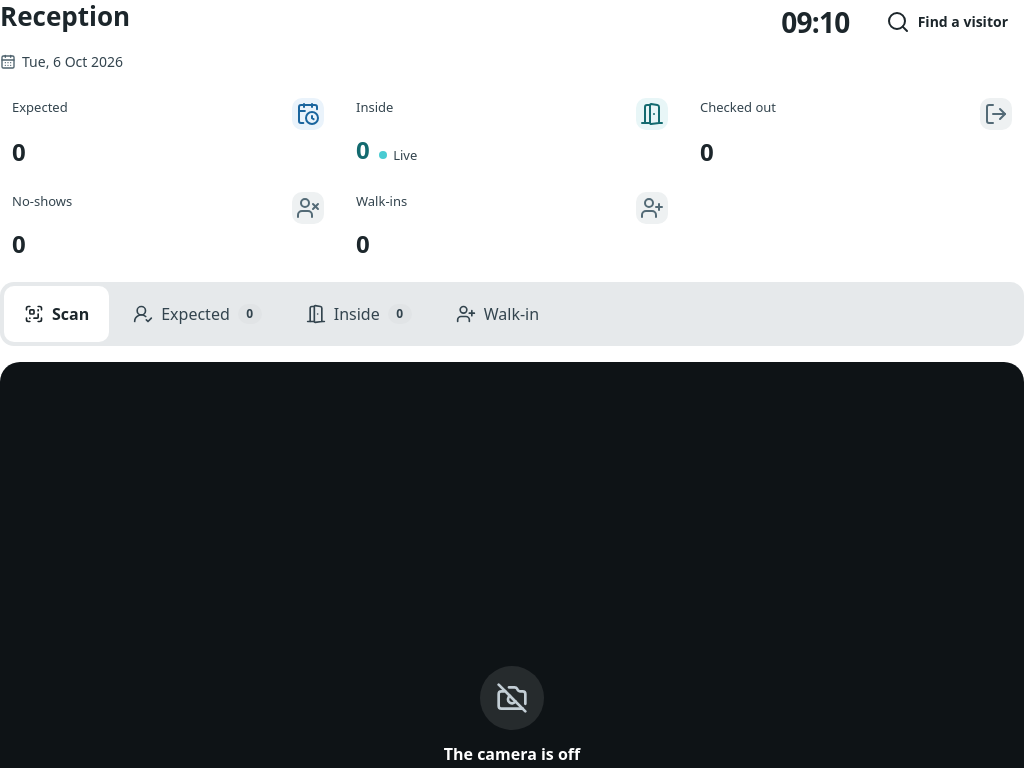
Test: Find a visitor › shows matching visitors with an inline Check in for today’s visit, and a walk-in for the others
Step 1. Click the button "Find a visitor" → (947, 22), box x1=870 y1=0 x2=1023 y2=44
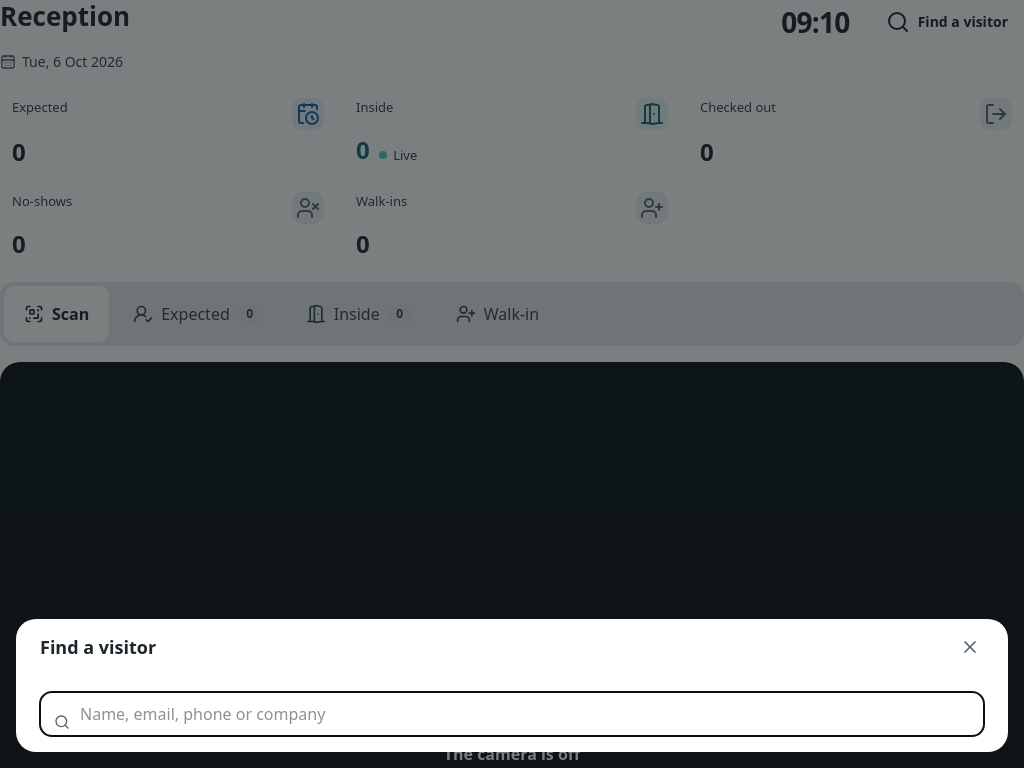
Step 2. Type "eli" into the search field named "Find a visitor" → (512, 714), box x1=40 y1=692 x2=984 y2=736
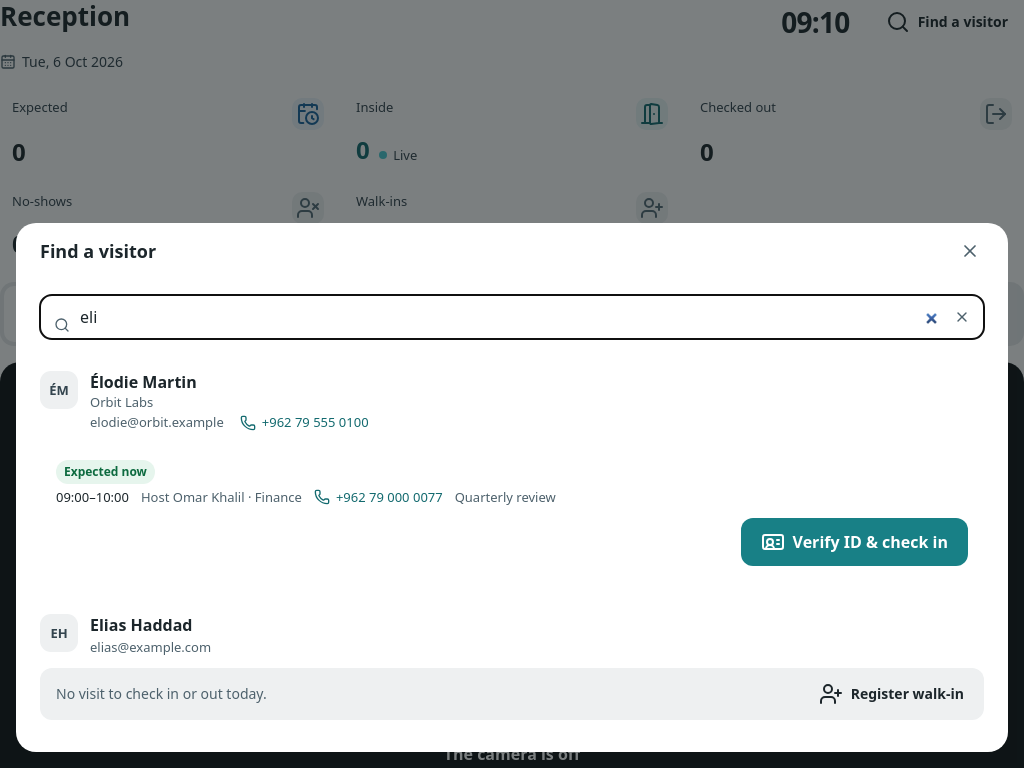
Result: the text "No visit to check in or out today." is shown at x1=56 y1=684 x2=267 y2=704
Result: the list named "Visits of Élodie Martin to act on" shows "Expected now" at x1=64 y1=463 x2=147 y2=480
Step 3. Click the button "Verify ID & check in" → (854, 542), box x1=741 y1=518 x2=968 y2=566
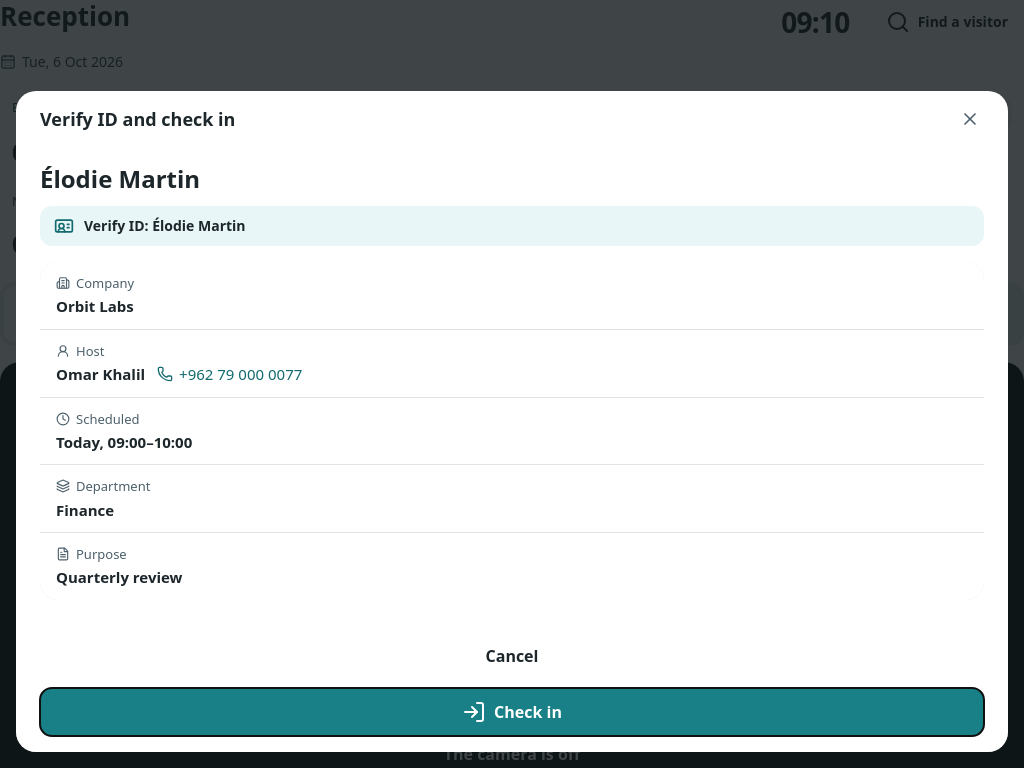
Step 4. Click the button "Check in" → (512, 712), box x1=40 y1=688 x2=984 y2=736
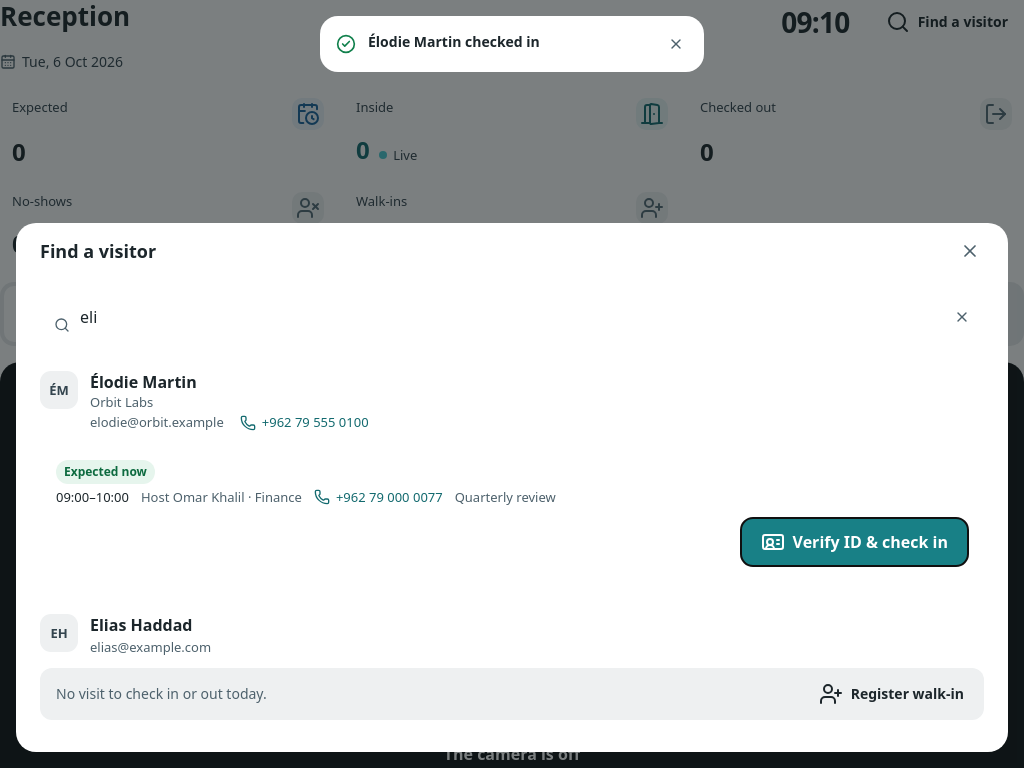
Result: the heading "Verify ID and check in" is gone
